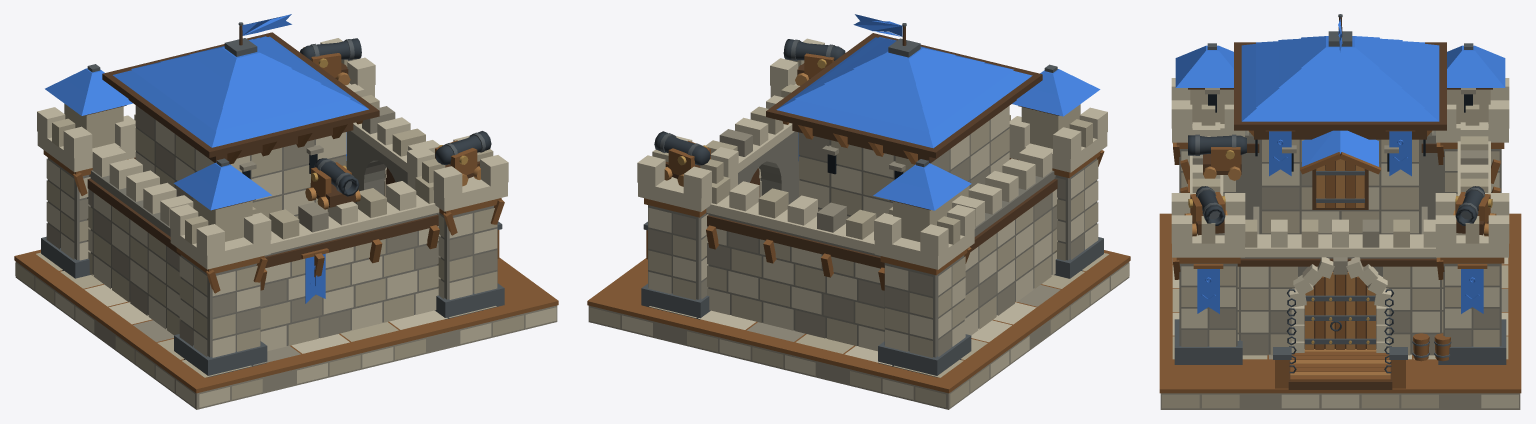
3 renders of one model, left to right at view 1: azimuth 30°, elevation 25°; view 2: azimuth 150°, elevation 25°; view 3: azimuth 270°, elevation 25°, orthographic.
Visible parts, largest first — view 1: Harbor Fortress Headquarters; view 2: Harbor Fortress Headquarters; view 3: Harbor Fortress Headquarters.
Boxes of the visible parts, box(x1,y1,x2,y2) form: Harbor Fortress Headquarters: box(14, 14, 558, 409); Harbor Fortress Headquarters: box(587, 14, 1130, 409); Harbor Fortress Headquarters: box(1159, 14, 1521, 409).
Bounding box in the file's own units: 4.24 × 3.2 × 3.69.
